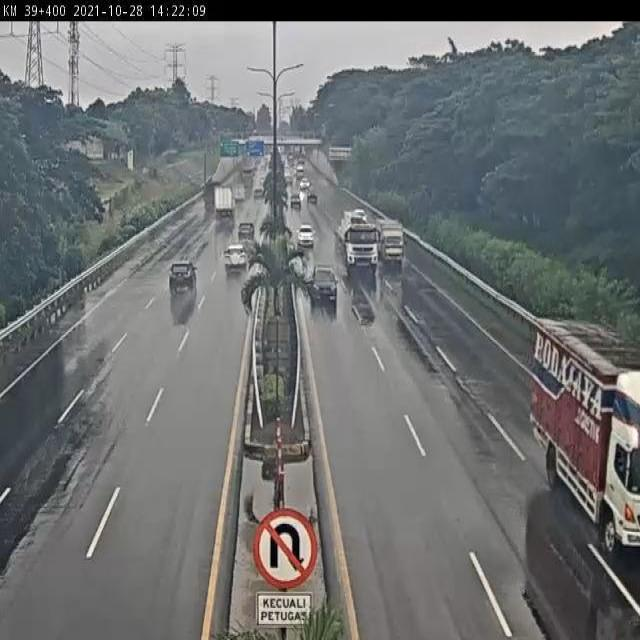ARABA: (310, 265, 339, 308), (168, 262, 199, 294), (224, 244, 250, 272), (295, 224, 315, 247), (236, 220, 254, 240)
KAMYONET: (376, 218, 407, 266), (214, 185, 235, 219)
TIR: (530, 315, 640, 540), (335, 214, 381, 274)
